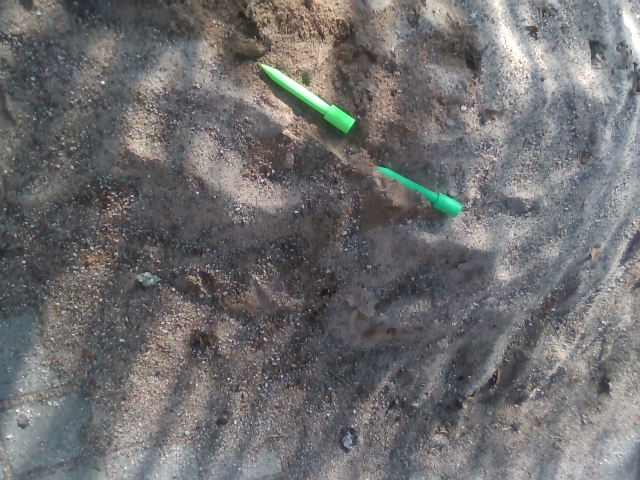Probe: (253, 55, 358, 137), (367, 158, 466, 222)
